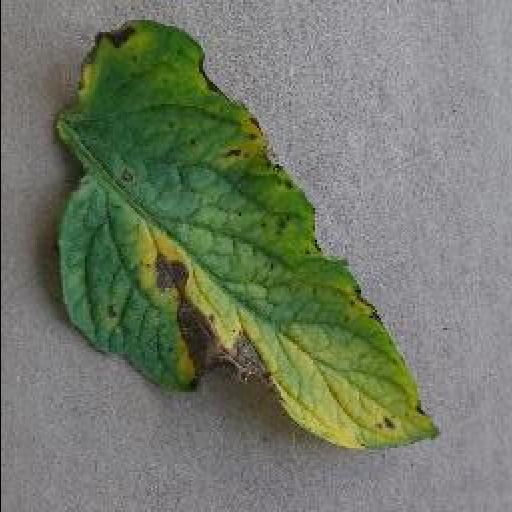Early Blight: (46, 24, 442, 458)
